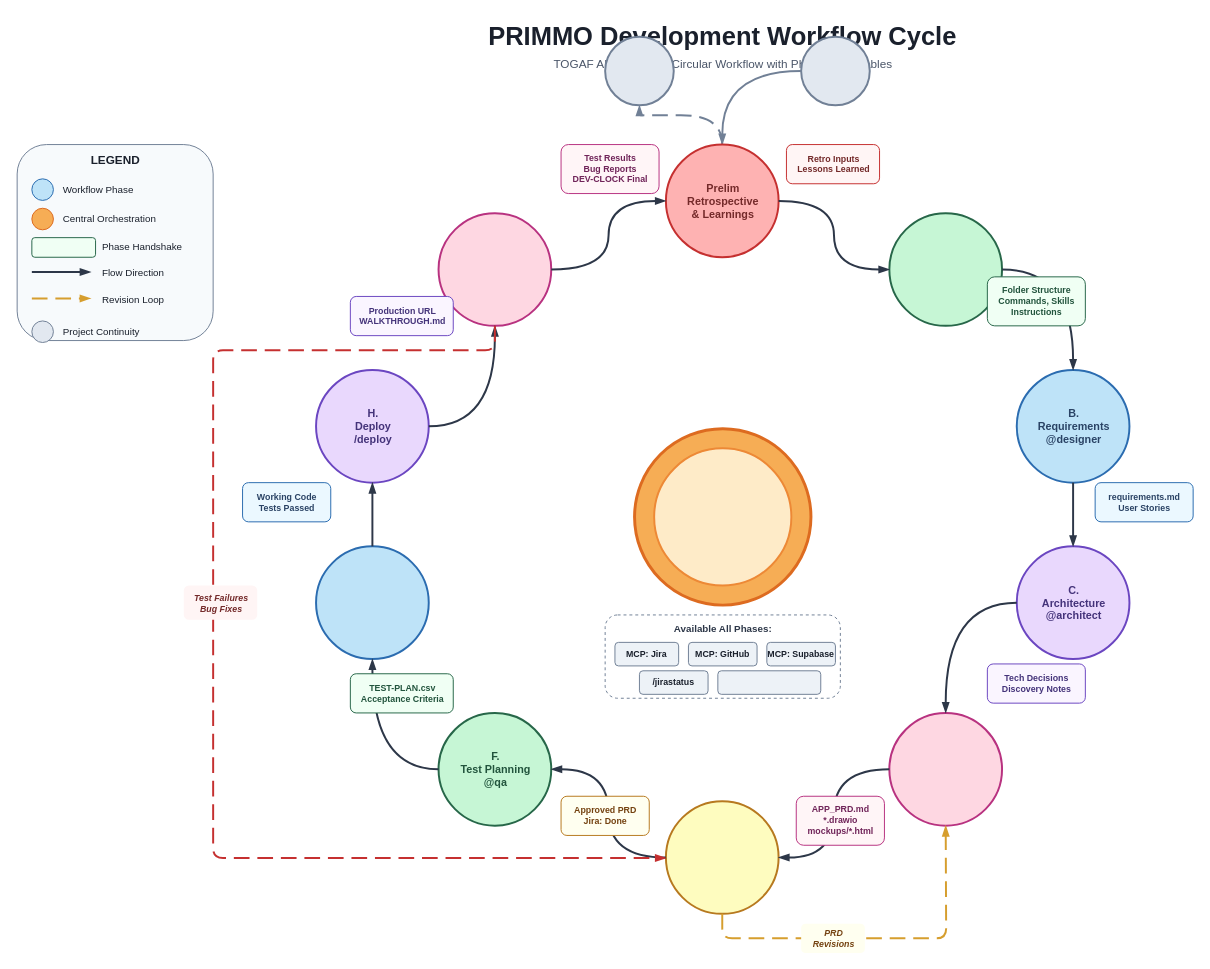
Some shapes in this 1210 by 969 pixel diagram are drawn without their labels. Each missing label, with the centre of its shape:
@walkthrough (G,H,I): pixel 769 682
A. Project Init /newproject: pixel 945 269
Claude Code Orchestration: pixel 722 516
D. PRD & Design @architect: pixel 945 768
Deliverable: pixel 63 247
E. Review Loop /checkprd: pixel 721 857
G. Build Claude Code: pixel 372 602
I. Manual Test Verify & QA: pixel 494 269
Next Project: pixel 639 70
Previous Project: pixel 835 70
